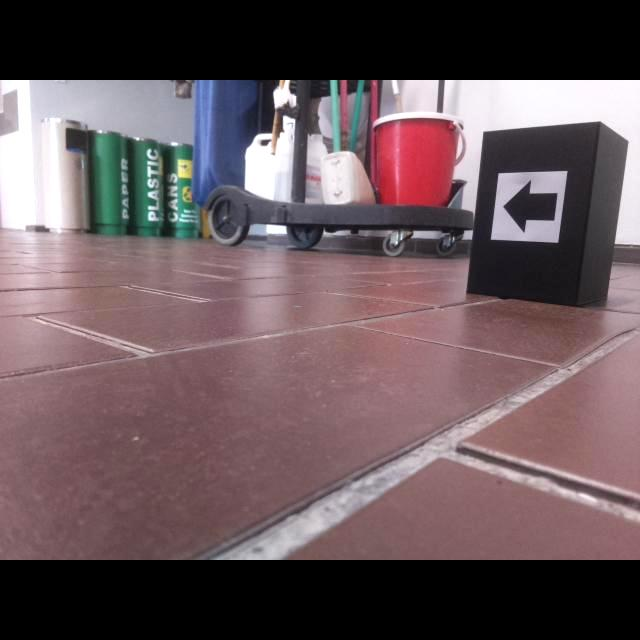LEFT: (502, 179, 559, 234)
